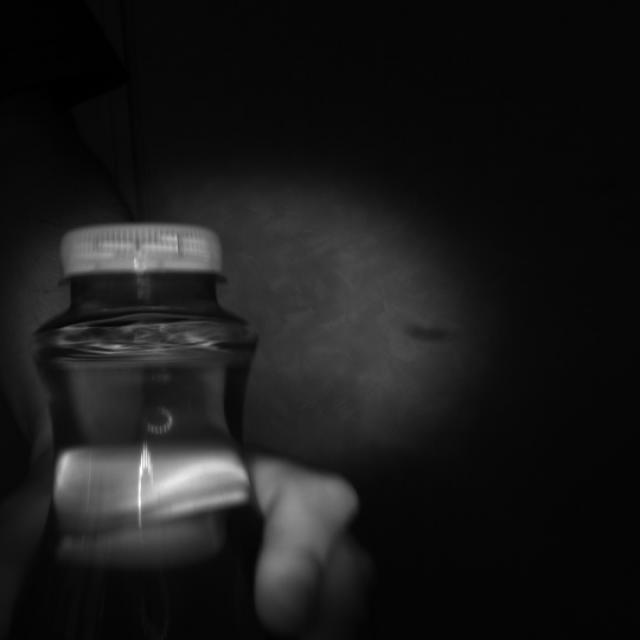Good: (58, 219, 221, 282)
